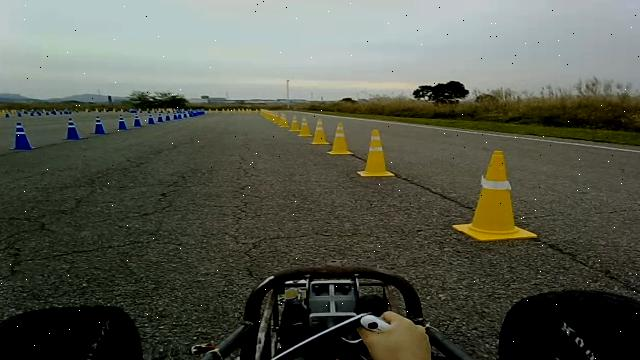blue cone: (9, 121, 36, 150), (62, 117, 84, 140), (91, 115, 107, 134), (117, 113, 128, 130), (132, 111, 142, 127), (147, 112, 156, 124), (156, 114, 164, 122)
yellow cone: (452, 149, 538, 242), (356, 129, 395, 177), (326, 122, 353, 154), (310, 118, 330, 145), (297, 118, 312, 137), (288, 116, 300, 131), (278, 116, 289, 127), (268, 112, 279, 122), (260, 108, 270, 119)
